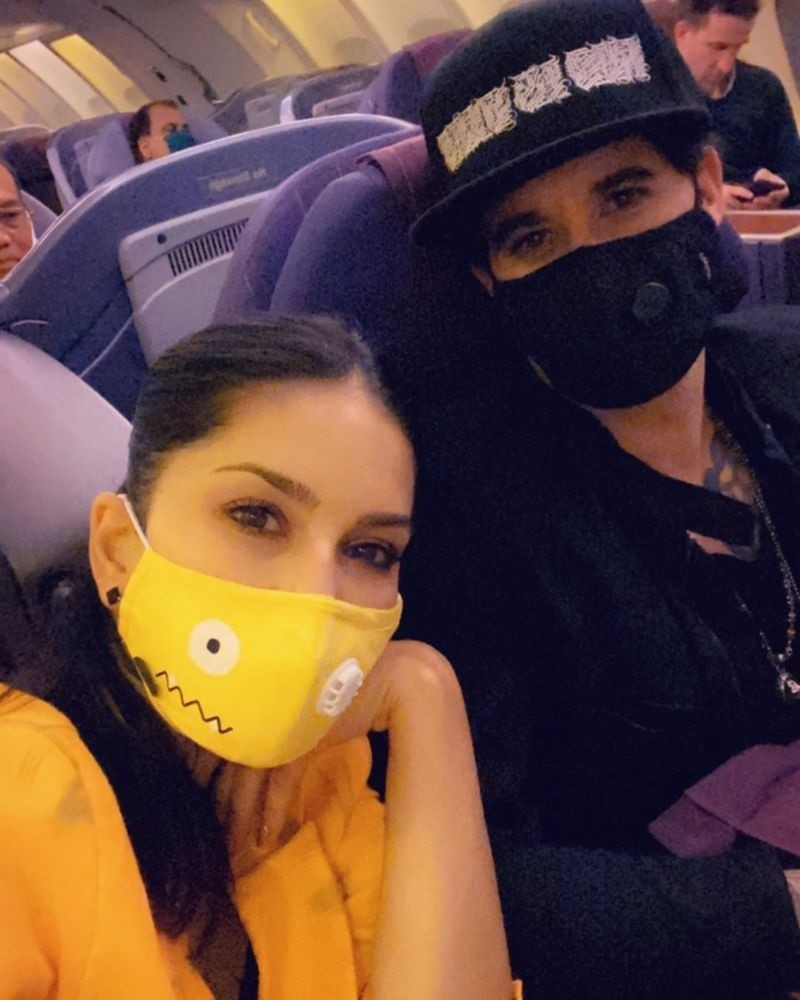face_no_mask: (673, 0, 759, 91)
face_with_mask: (103, 318, 410, 768), (429, 2, 744, 416)
